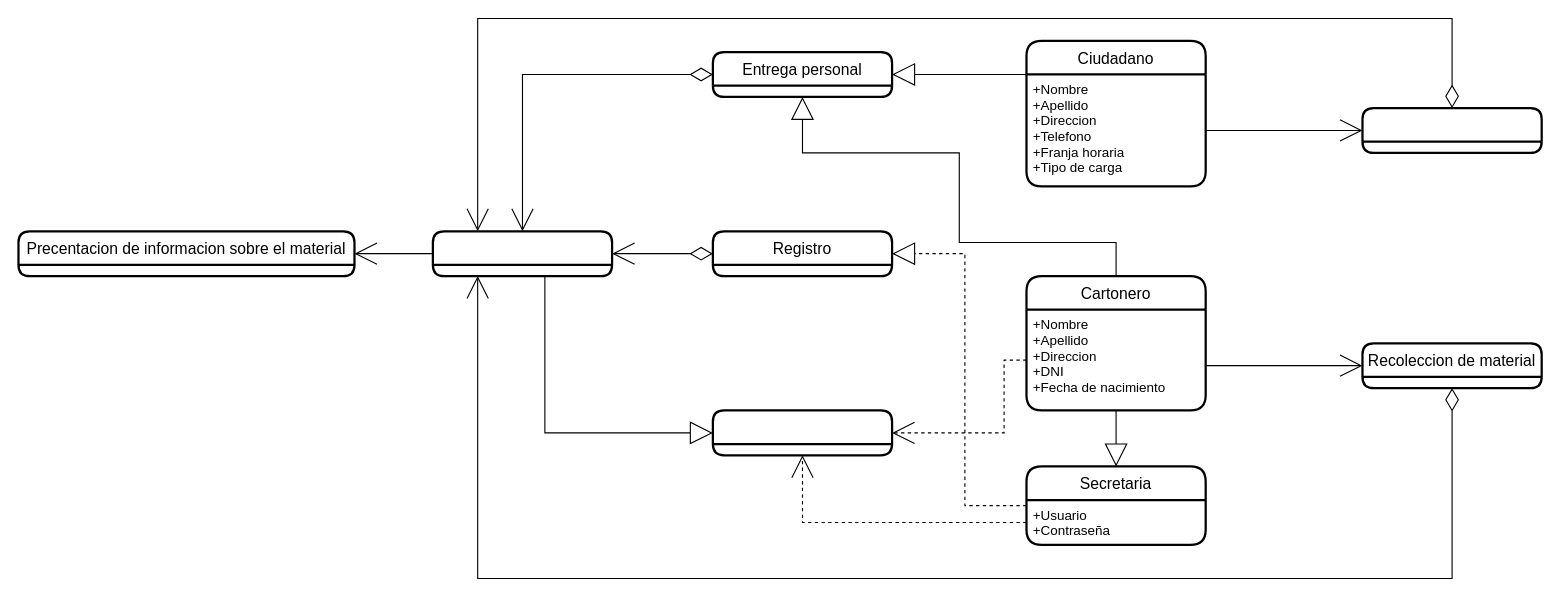
The diagram is 1560 pixels wide and 597 high, and some of its shapes have lost their labels. The centre of each missing label's shape, as x and y in pixels:
Centro de acopio: the point at 522,253
Informe de disponibilidad: the point at 1451,129
Personal: the point at 802,432
